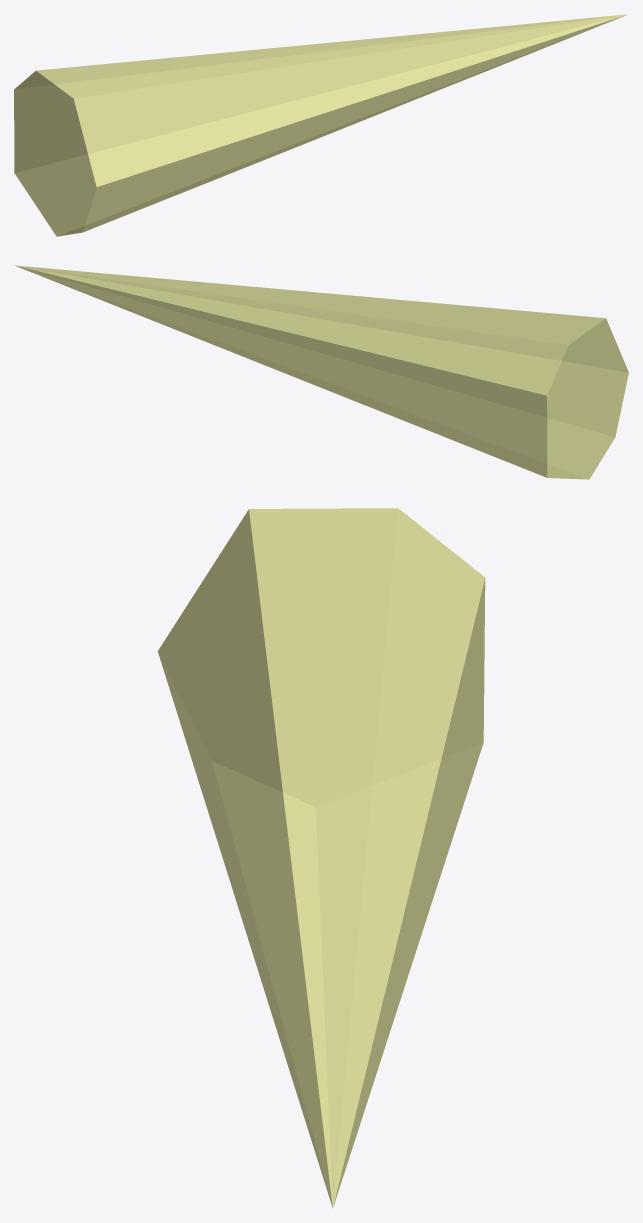
File: needle.fbx
3 renders of one model, top to bottom at view 1: azimuth 30°, elevation 25°; view 2: azimuth 150°, elevation 25°; view 3: azimuth 270°, elevation 25°, orthographic. The views are drawn at different scales.
Visible parts, largest first — view 1: Cone; view 2: Cone; view 3: Cone.
Part boxes in pixels (left/top/right/bottom): Cone: left=14, top=14, right=627, bottom=236; Cone: left=14, top=265, right=628, bottom=479; Cone: left=157, top=508, right=485, bottom=1208.
Size of the model in its own units: 49.67 by 50.02 by 200.
